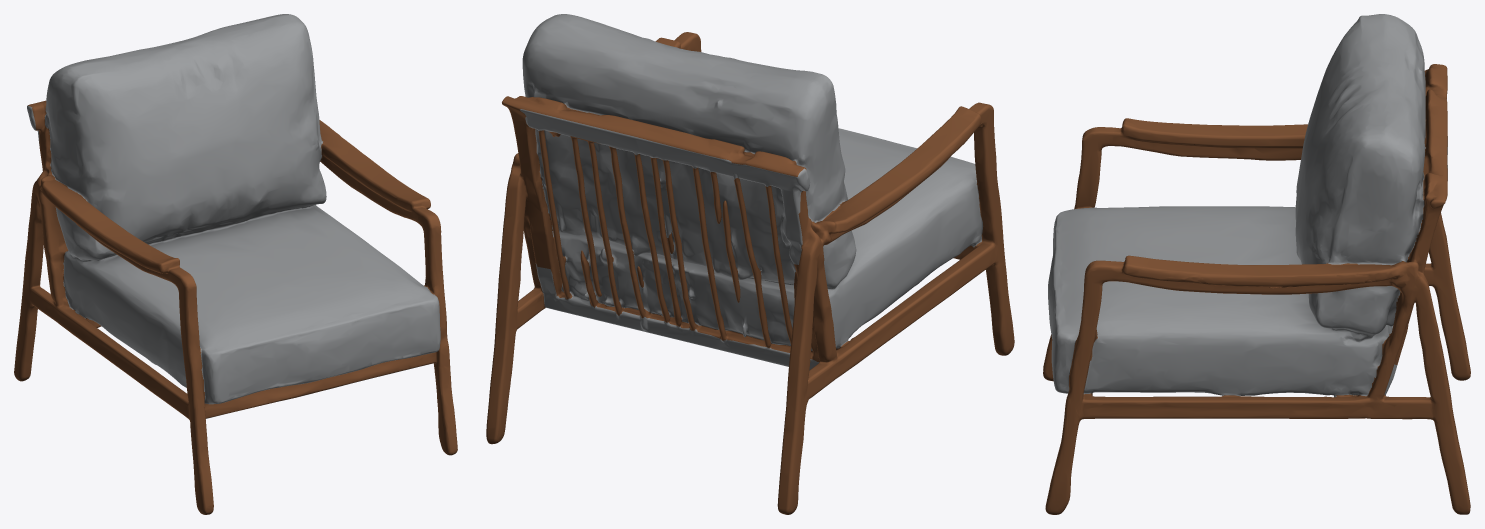
The model's file is italia-072.glb.
3 renders of one model, left to right at view 1: azimuth 30°, elevation 25°; view 2: azimuth 150°, elevation 25°; view 3: azimuth 270°, elevation 25°, orthographic. The views are drawn at different scales.
Parts seen in each view (by area): view 1: Sofa; view 2: Sofa; view 3: Sofa.
Part boxes in pixels (left/top/right/bottom): Sofa: left=14, top=14, right=457, bottom=514; Sofa: left=486, top=14, right=1014, bottom=514; Sofa: left=1043, top=14, right=1470, bottom=514.
Bounding box in the file's own units: 0.72 × 0.82 × 0.85.
